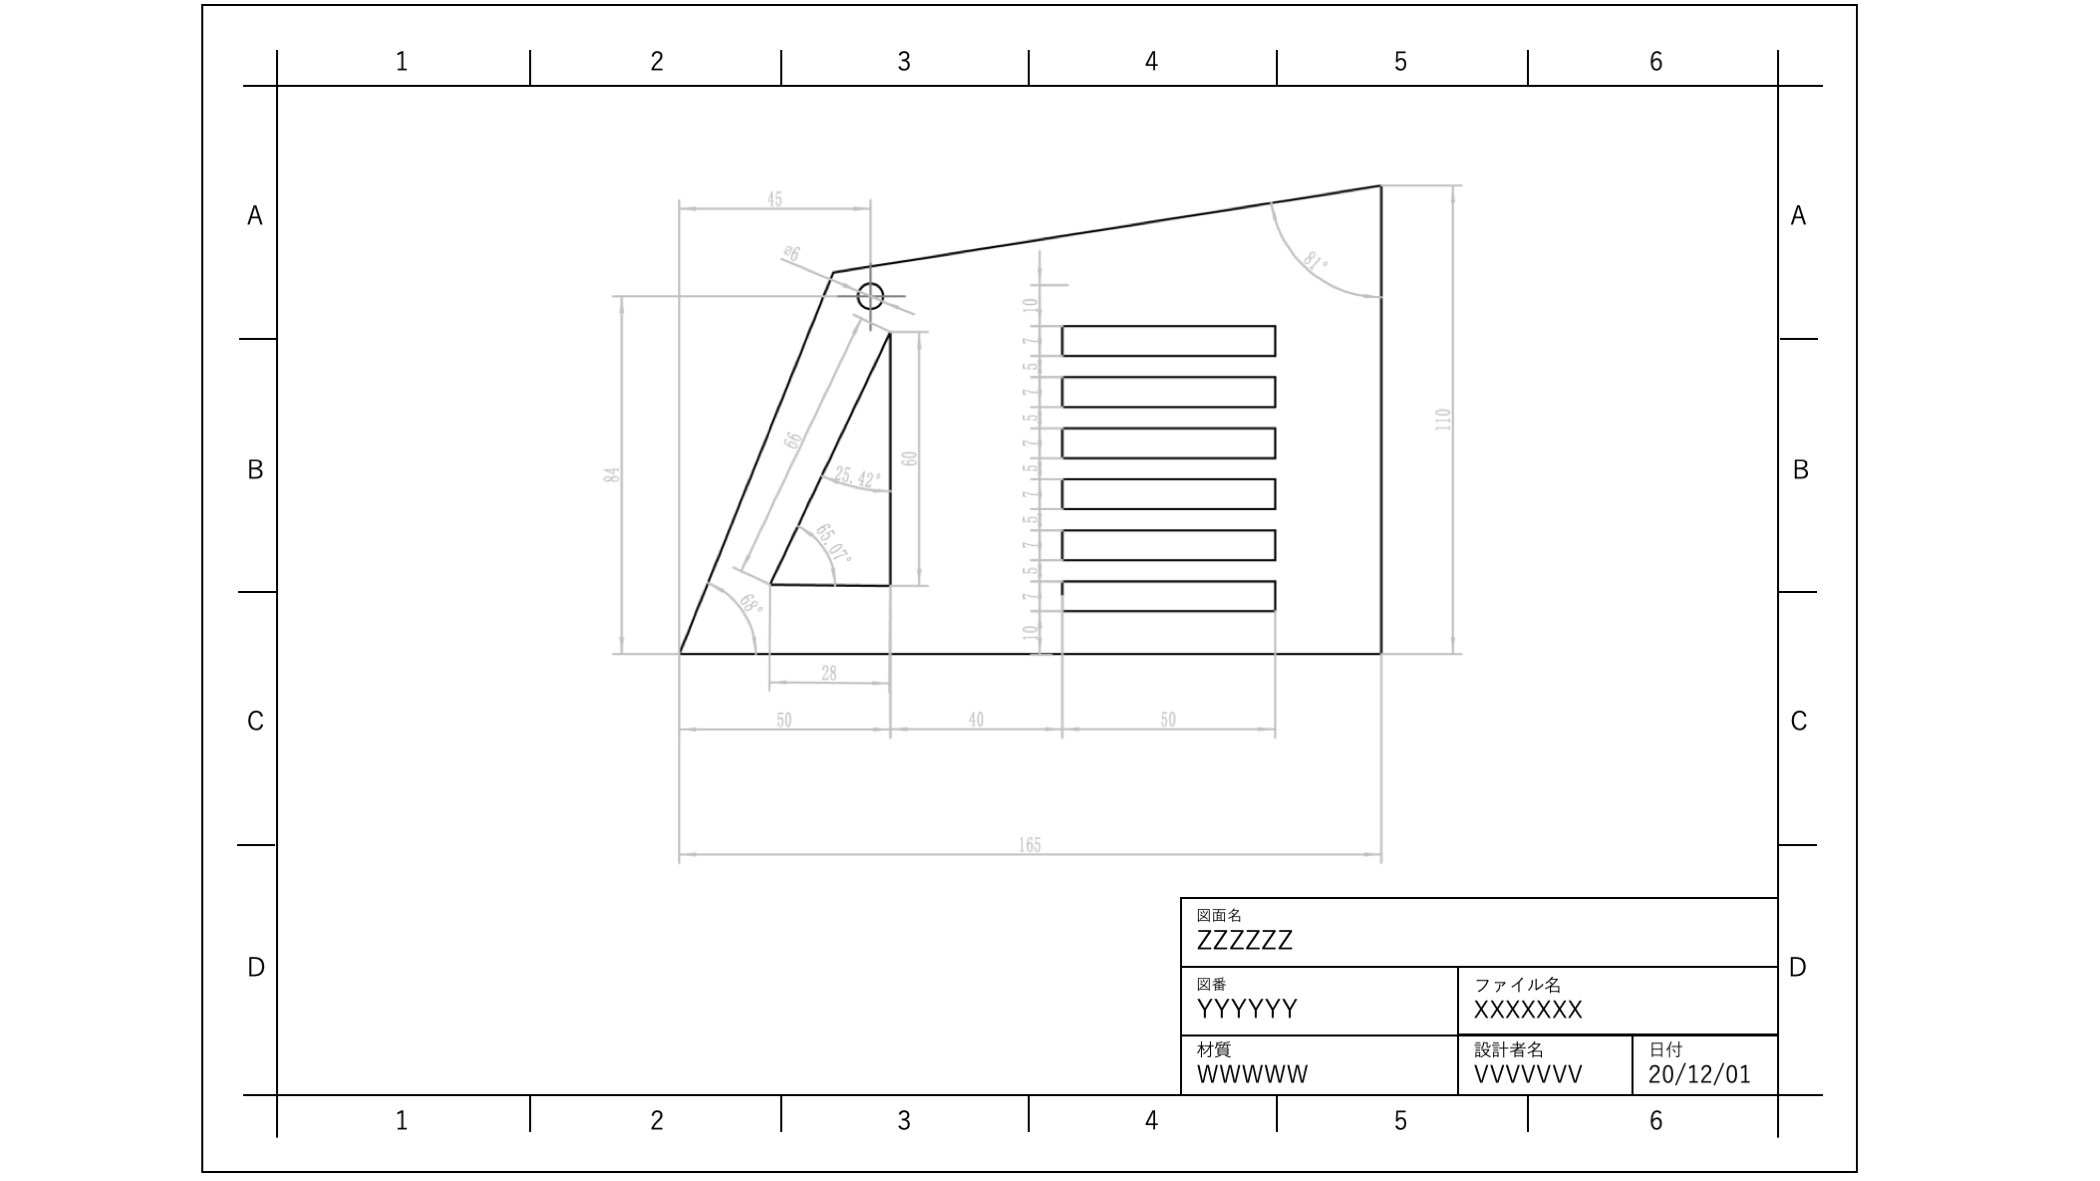circle: (852, 274, 887, 311)
rectangle: (1059, 523, 1279, 565), (1060, 319, 1279, 361), (1056, 575, 1282, 614), (1057, 423, 1281, 461), (1057, 373, 1282, 410), (1057, 474, 1279, 510)
triangle: (764, 324, 896, 593)
